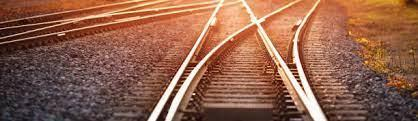track: (150, 0, 319, 120), (168, 0, 324, 120), (1, 1, 237, 43), (0, 0, 162, 39)
